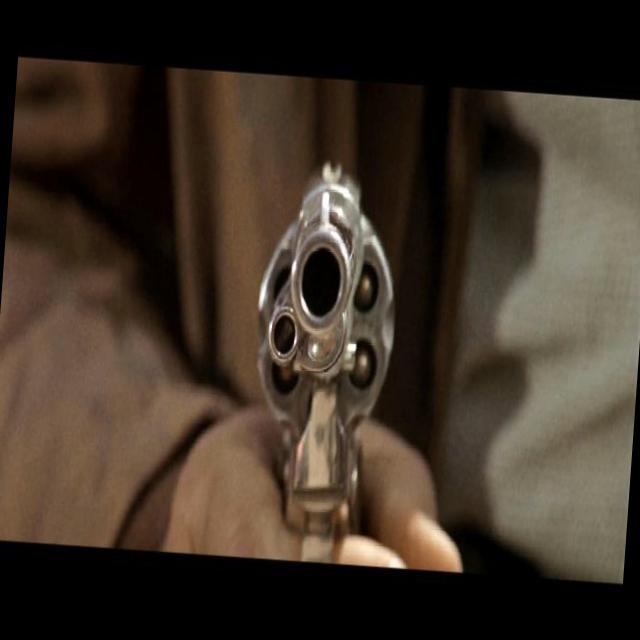Gun: (258, 164, 394, 561)
